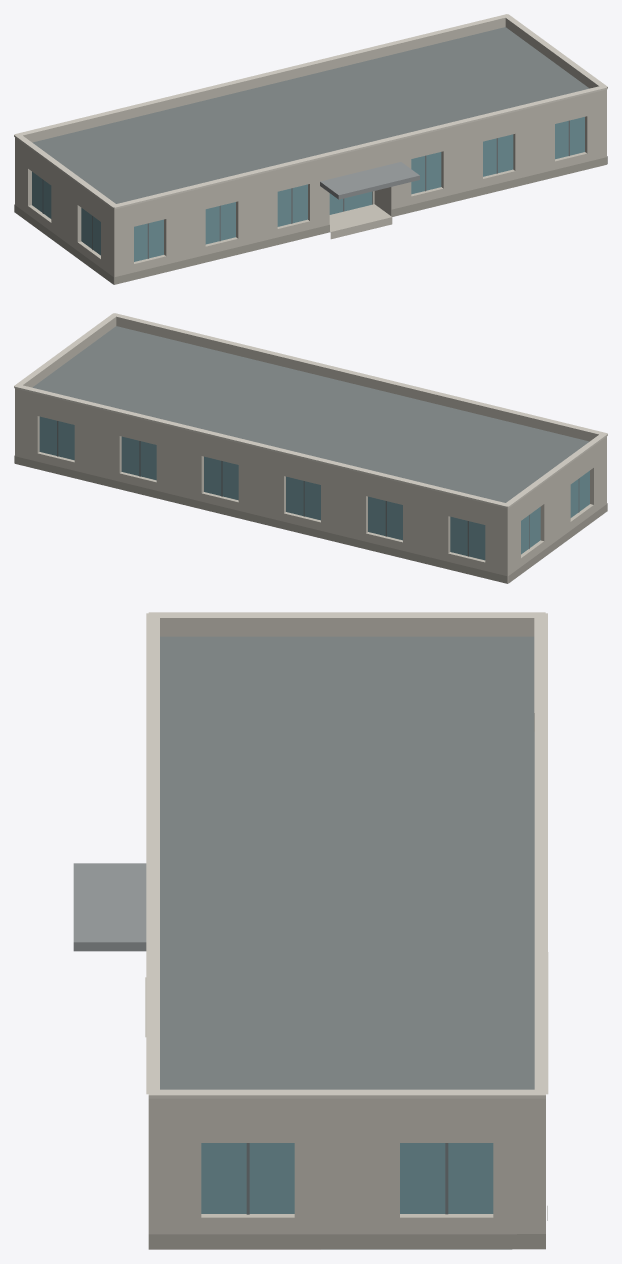
The picture shows the model from 3 angles, top to bottom: view 1: azimuth 30°, elevation 25°; view 2: azimuth 150°, elevation 25°; view 3: azimuth 270°, elevation 25°; orthographic projection. The views are drawn at different scales.
Parts seen in each view (by area): view 1: aux170482643__roof, aux170482643__wall, aux170482643__parapet, aux170482643__glass, aux170482643__trim, aux170482643__base, aux170482643__canopy, aux170482643__entranceThreshold_0, aux170482643__frame; view 2: aux170482643__roof, aux170482643__wall, aux170482643__parapet, aux170482643__glass, aux170482643__trim, aux170482643__base, aux170482643__frame; view 3: aux170482643__roof, aux170482643__wall, aux170482643__trim, aux170482643__parapet, aux170482643__glass, aux170482643__canopy, aux170482643__base.
Boxes of the visible parts, box(x1,y1,x2,y2) form: aux170482643__roof: box(32, 27, 589, 284); aux170482643__wall: box(15, 96, 606, 284); aux170482643__parapet: box(15, 17, 606, 216); aux170482643__glass: box(32, 117, 584, 261); aux170482643__trim: box(14, 14, 607, 209); aux170482643__base: box(14, 156, 607, 284); aux170482643__canopy: box(320, 162, 419, 199); aux170482643__entranceThreshold_0: box(329, 204, 392, 239); aux170482643__frame: box(42, 120, 569, 258); aux170482643__roof: box(32, 326, 589, 583); aux170482643__wall: box(15, 395, 606, 583); aux170482643__parapet: box(15, 316, 606, 515); aux170482643__glass: box(39, 416, 589, 560); aux170482643__trim: box(14, 313, 607, 508); aux170482643__base: box(14, 455, 607, 583); aux170482643__frame: box(57, 421, 579, 556); aux170482643__roof: box(160, 636, 534, 1249); aux170482643__wall: box(148, 1113, 545, 1234); aux170482643__trim: box(146, 612, 548, 1098); aux170482643__parapet: box(148, 618, 545, 1112); aux170482643__glass: box(201, 1143, 493, 1213); aux170482643__canopy: box(73, 863, 146, 951); aux170482643__base: box(148, 1206, 547, 1249).
Size of the model in its own units: 30.48 by 4.95 by 12.66.
